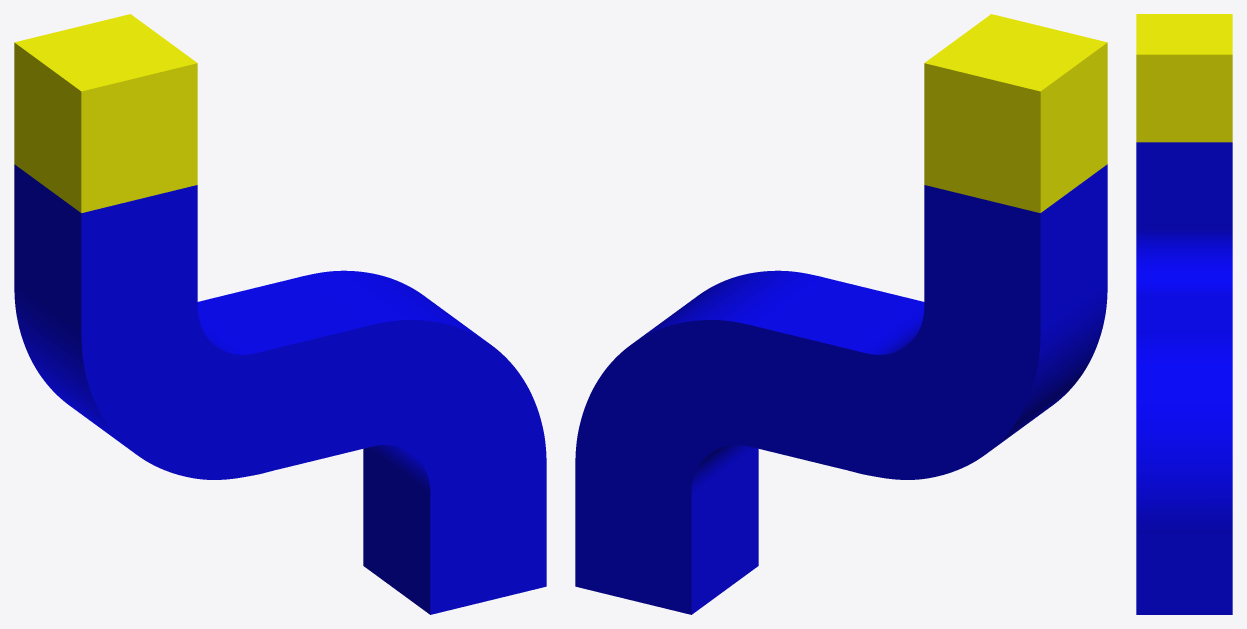
File: serial_test_example_fn_std-sketch-extrude11_output.glb
3 views of the same model, side by side, from view 1: azimuth 30°, elevation 25°; view 2: azimuth 150°, elevation 25°; view 3: azimuth 270°, elevation 25° (orthographic). The views are drawn at different scales.
Bounding box in the file's own units: 0.008 × 0.01 × 0.002.
